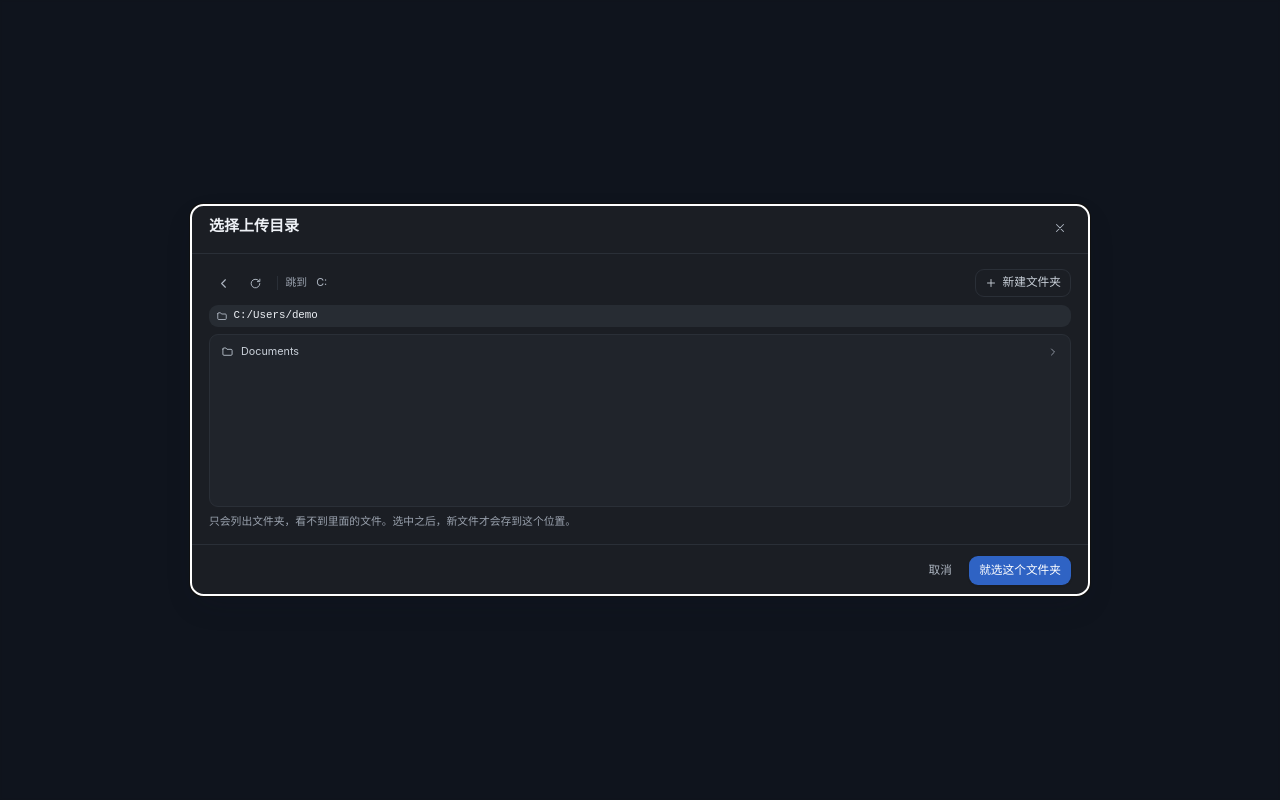
Test case: DirPickerModal › 点文件夹进入下一层
The width and height of the screenshot is (1280, 800).
What coordinates should you click on to do the following:
click the button "Documents"
I would click on:
 (270, 352)
Its box is [214,339,1066,365].
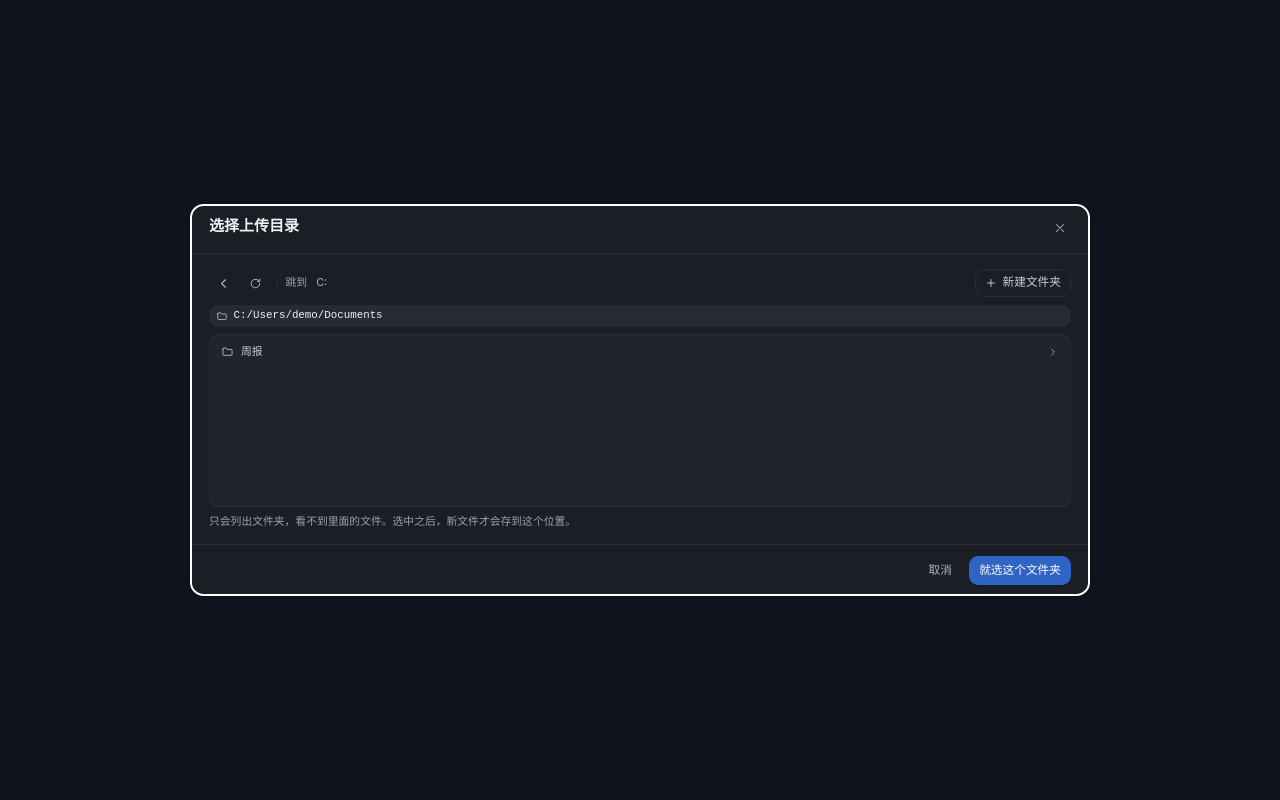
Now the text "周报" is shown, box [241,344,263,360]
